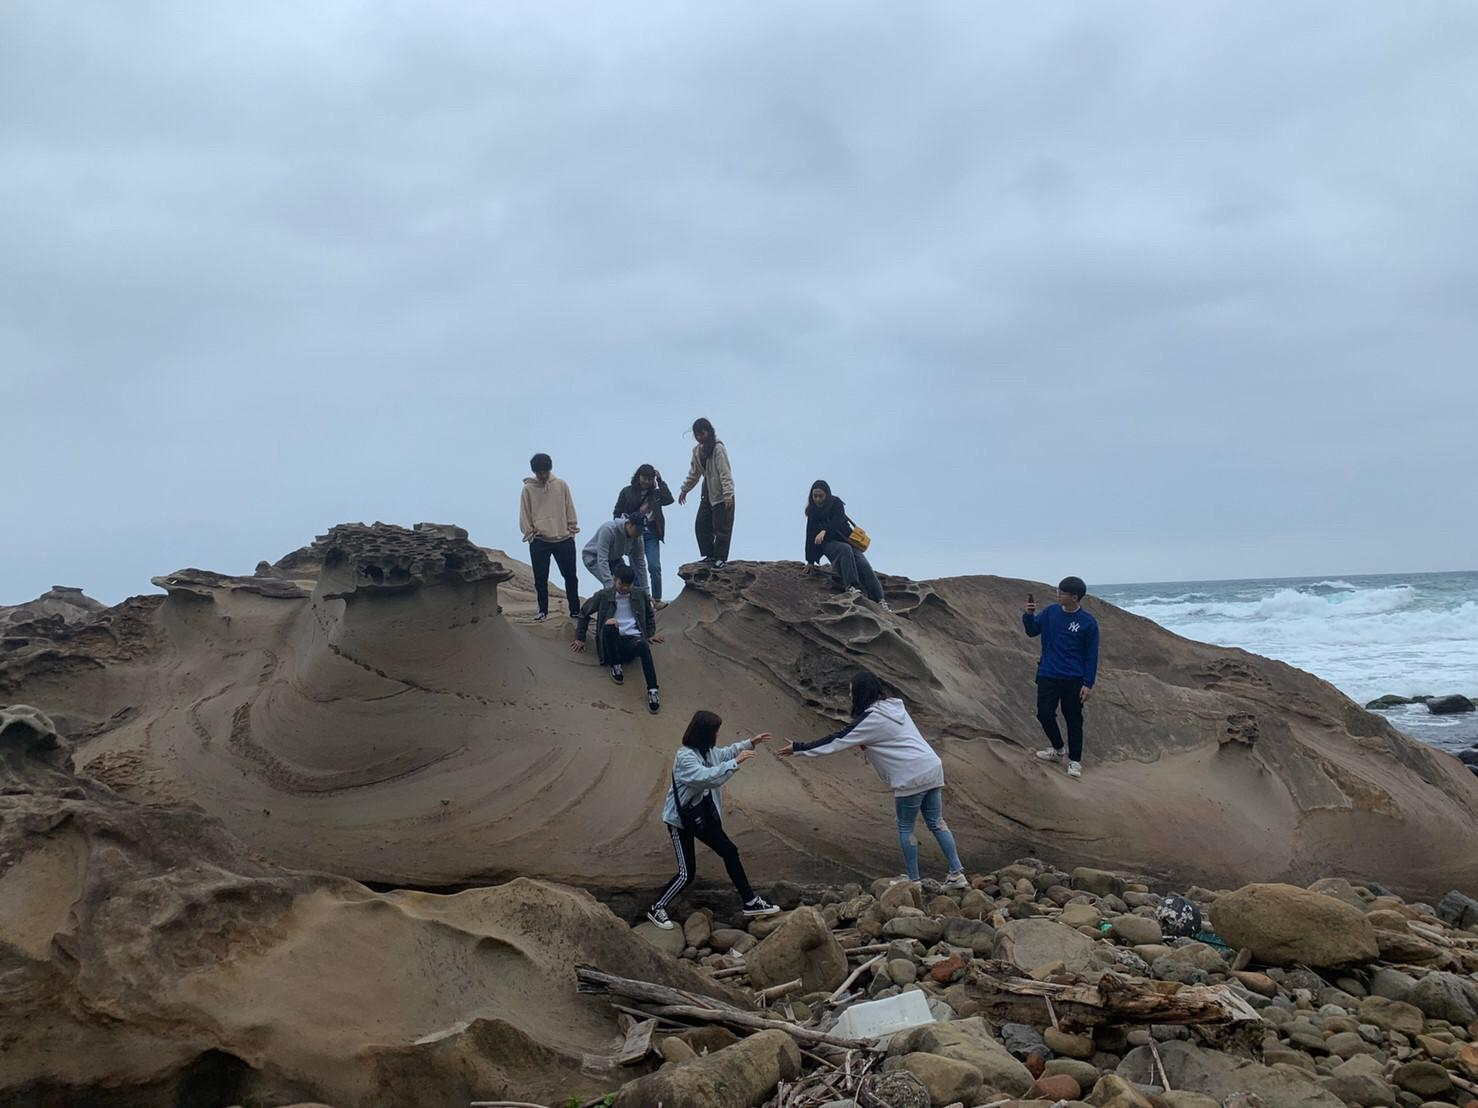people: (836, 677, 975, 896), (652, 713, 773, 921), (1033, 575, 1096, 775), (517, 450, 590, 613), (804, 475, 888, 607), (596, 573, 671, 690), (688, 417, 740, 575), (613, 467, 669, 607), (581, 511, 646, 590)
